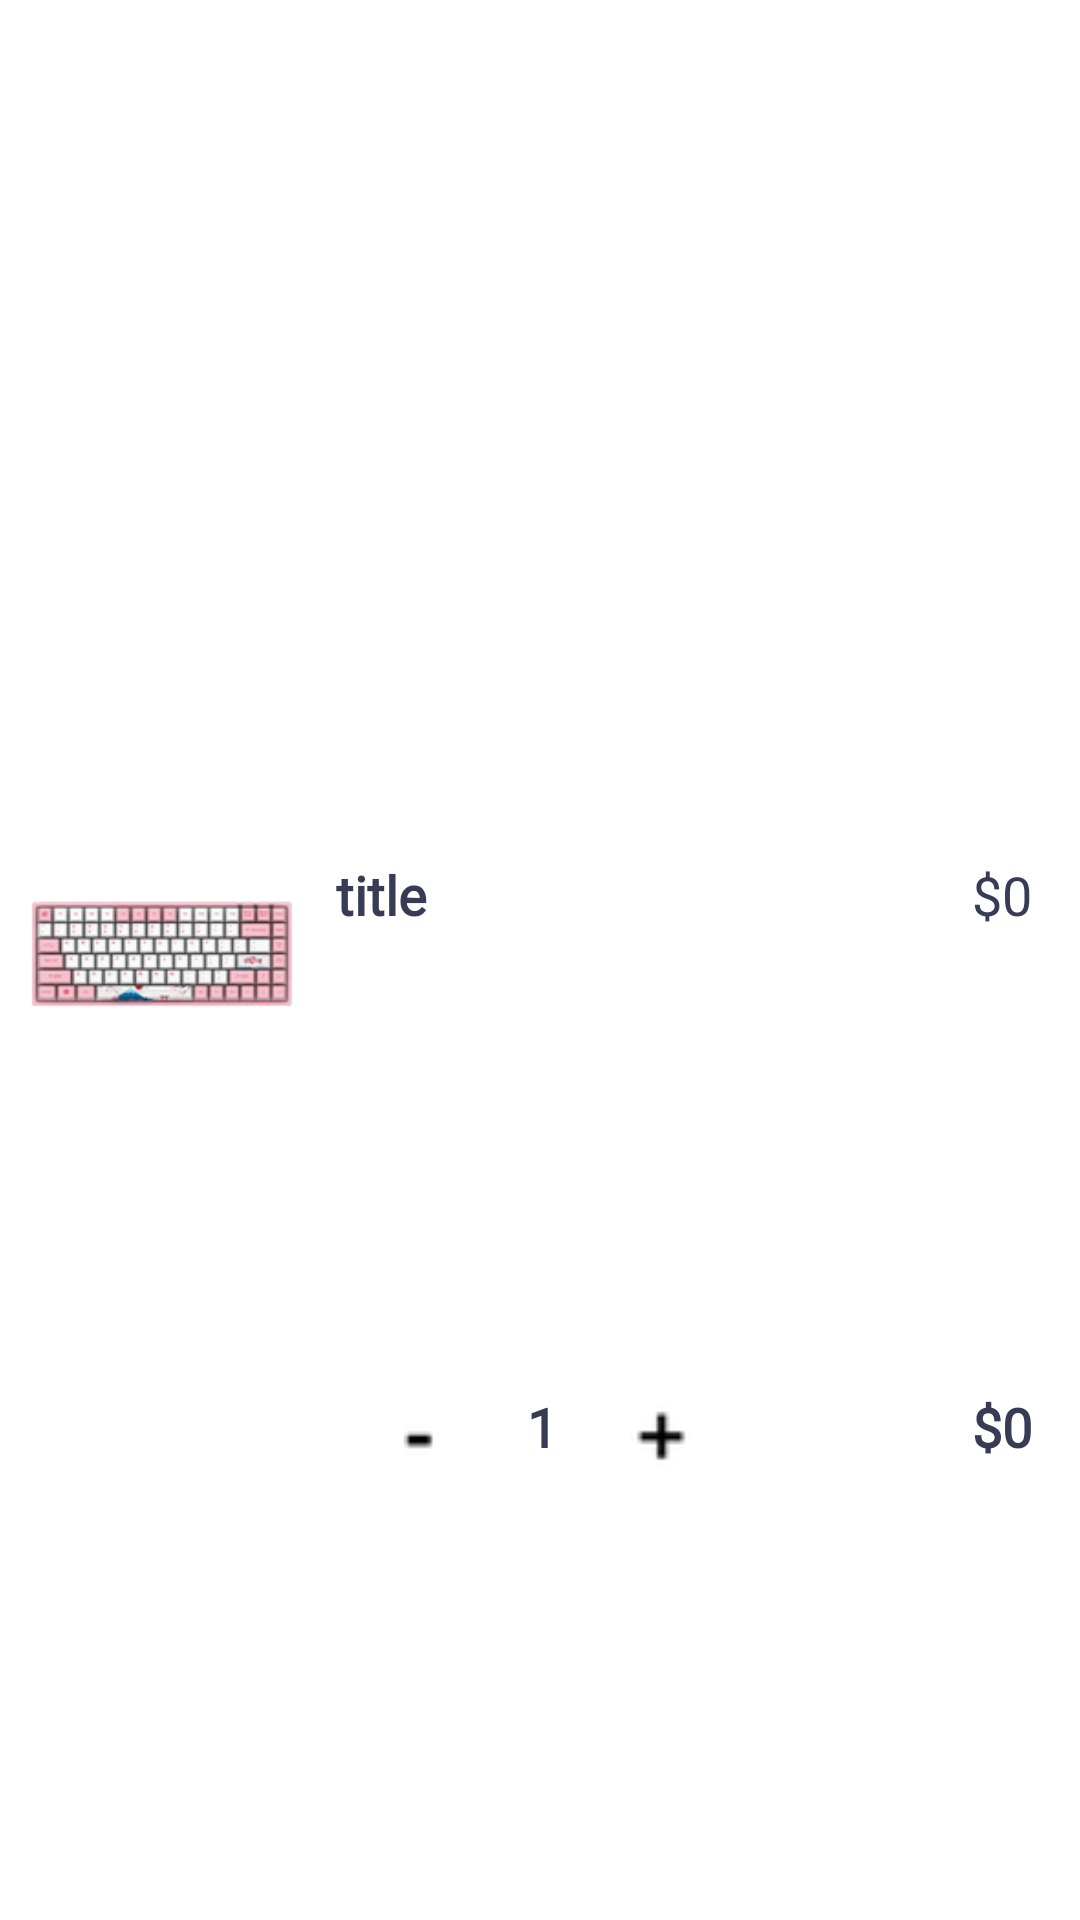

Icons on this 1080px×1920px Android screen, each with the point to tap as (x,y):
minus: (418,1440)
plus: (661,1435)
